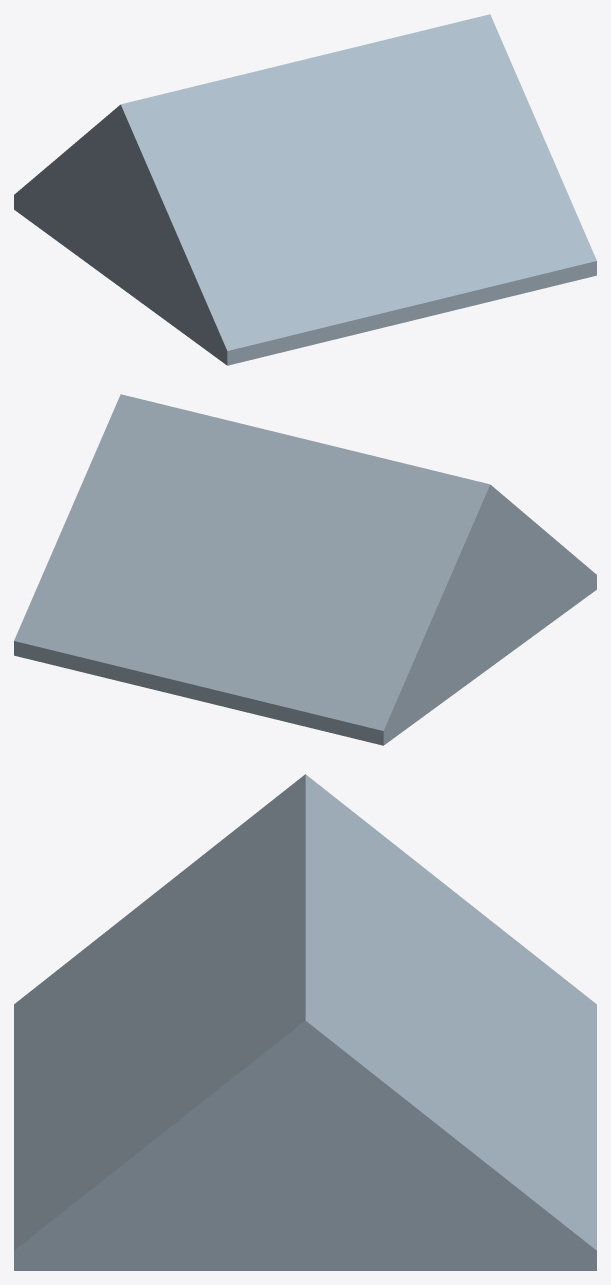
File: desert_olg_roof.fbx
3 renders of one model, top to bottom at view 1: azimuth 30°, elevation 25°; view 2: azimuth 150°, elevation 25°; view 3: azimuth 270°, elevation 25°, orthographic. The views are drawn at different scales.
Parts seen in each view (by area): view 1: Cube.008; view 2: Cube.008; view 3: Cube.008.
Boxes of the visible parts, x1,y1,x2,y2 form: Cube.008: [14, 14, 596, 365]; Cube.008: [14, 394, 596, 745]; Cube.008: [14, 774, 596, 1270].
Size of the model in its own units: 396 by 188 by 396.
